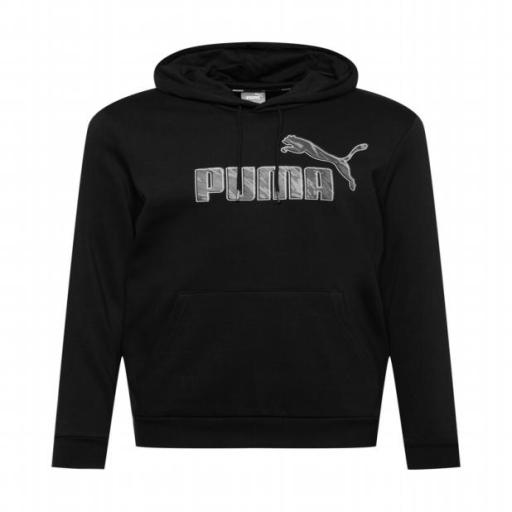Puma: (192, 163, 338, 208), (279, 130, 371, 194)
